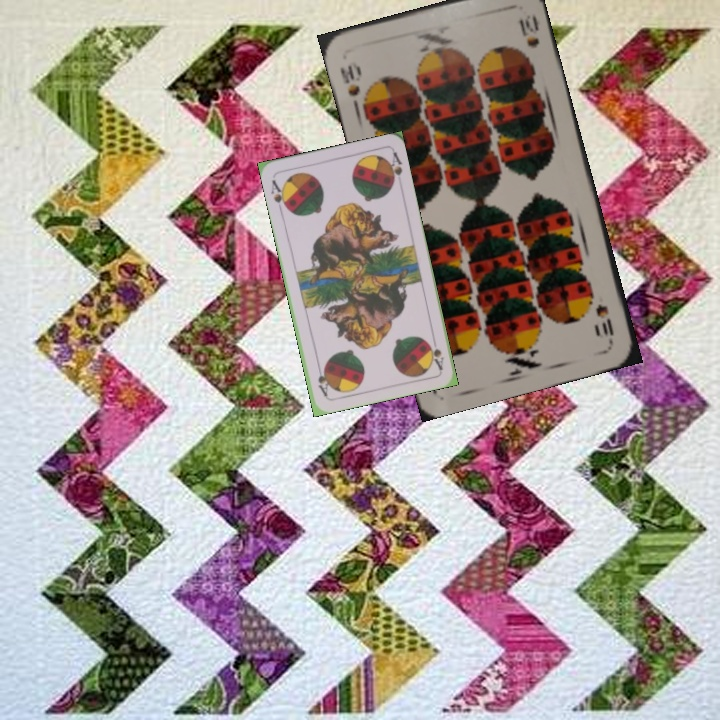S10: (335, 60, 363, 112), (591, 299, 617, 339)
SA: (267, 176, 291, 214), (424, 332, 446, 372)
